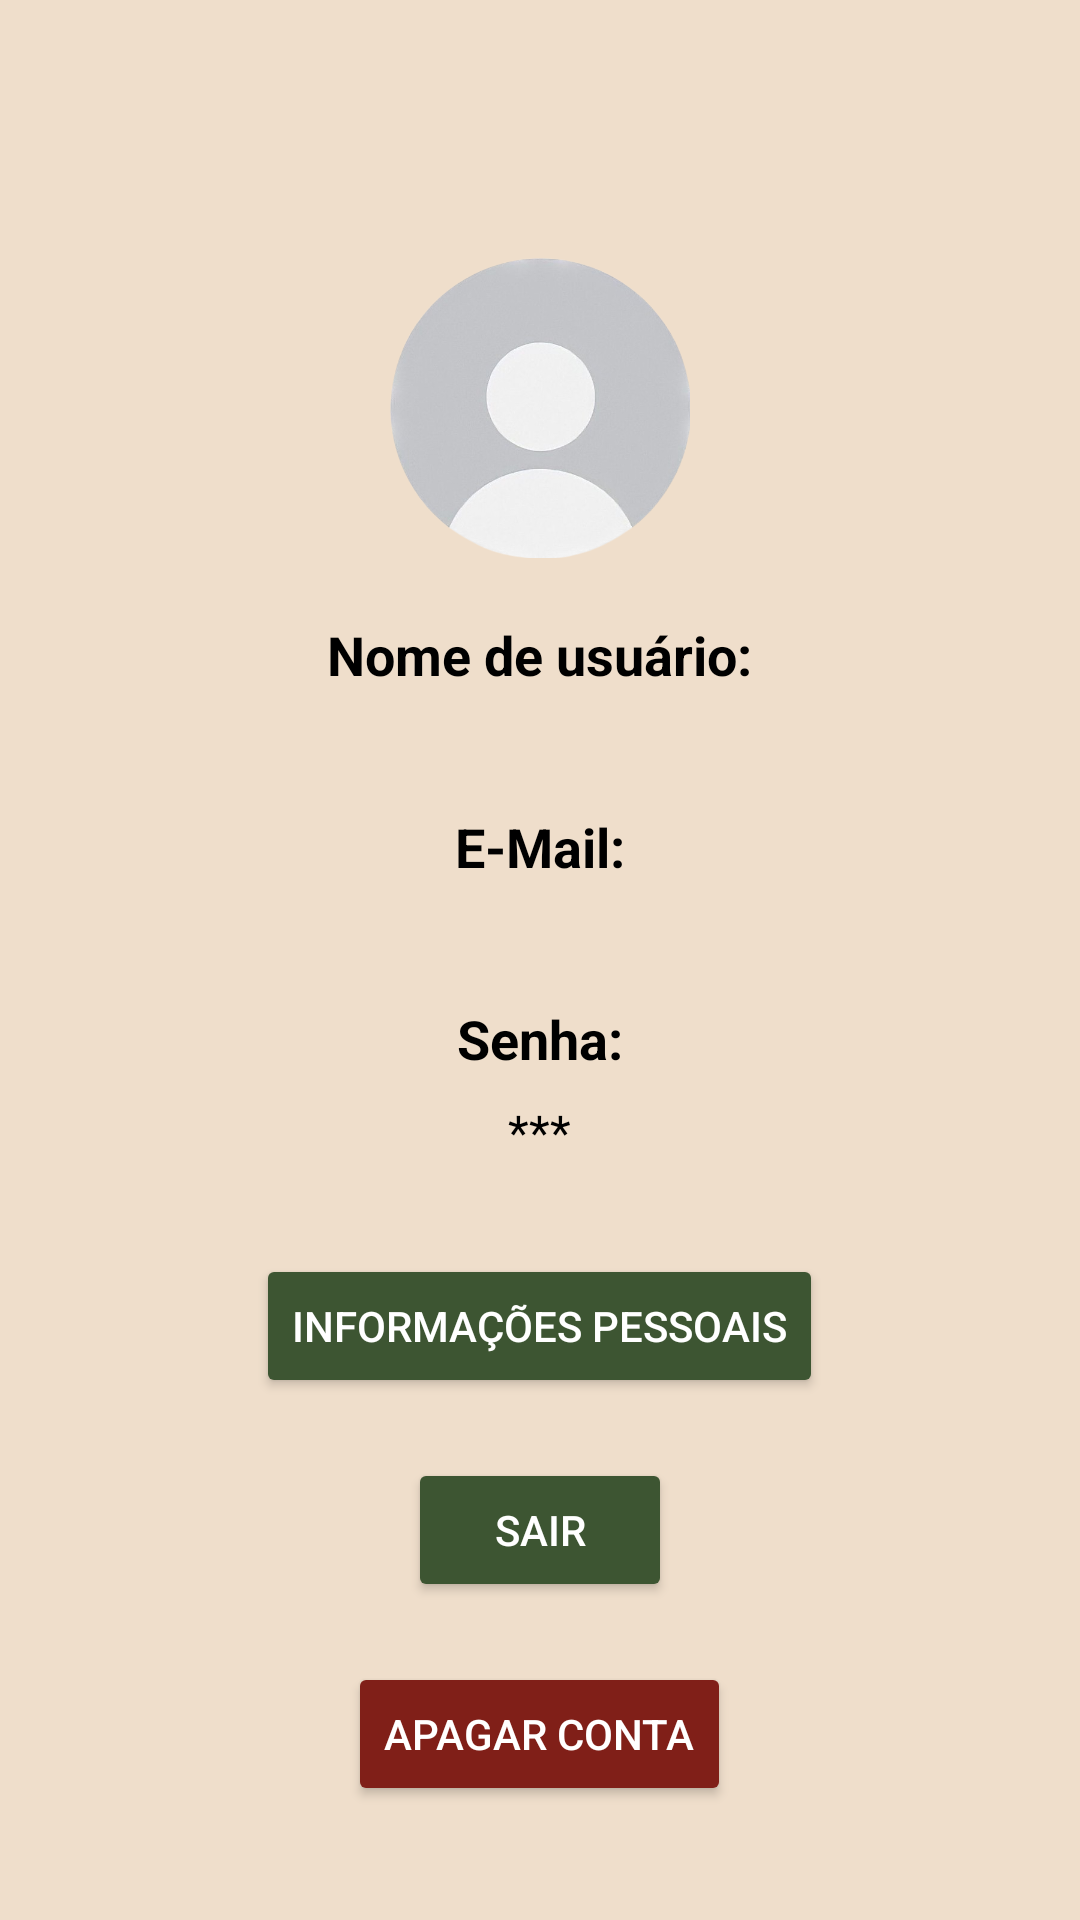

Icon click points for this 1080w x 1920h phone screenshot, format [x,y]:
Profile image: [540,408]
